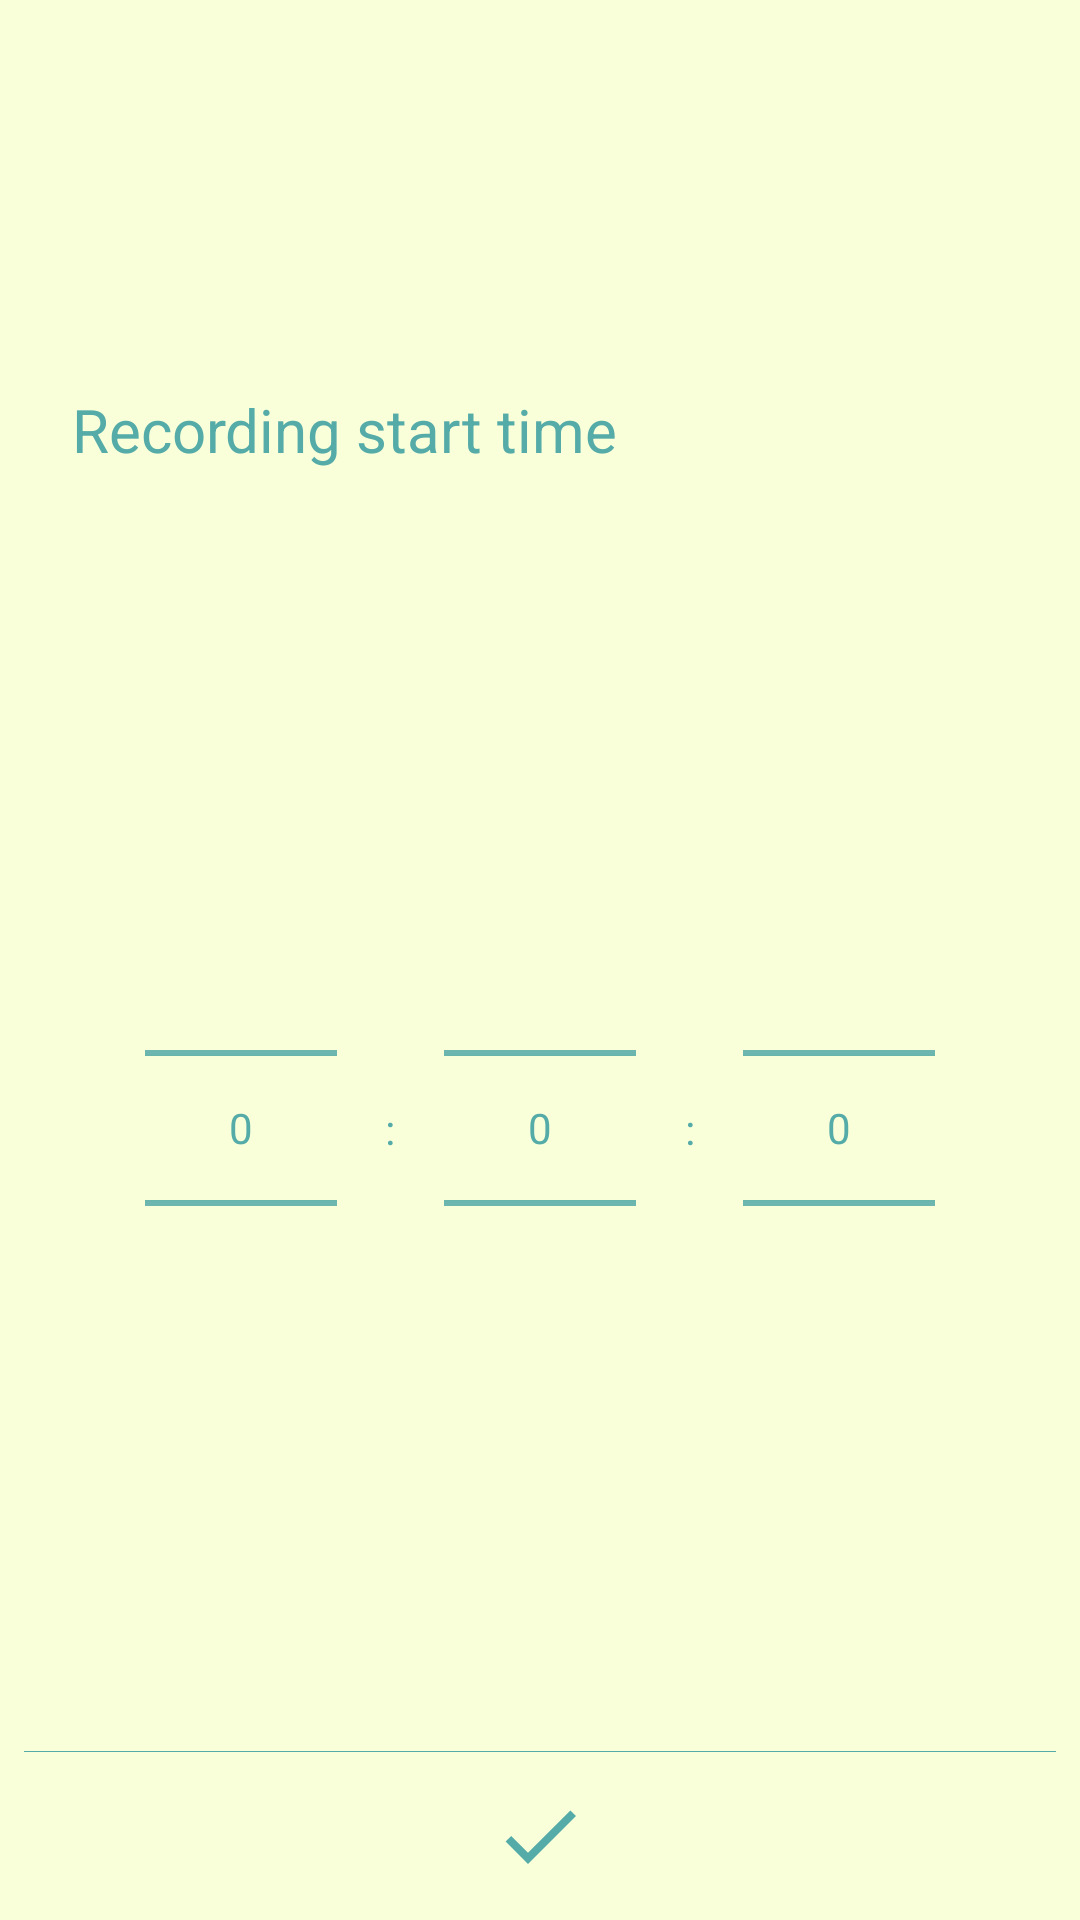

Icon click points for this 1080px×1920px phone screenshot, format (x=x, y=y):
check main: (x=541, y=1837)
